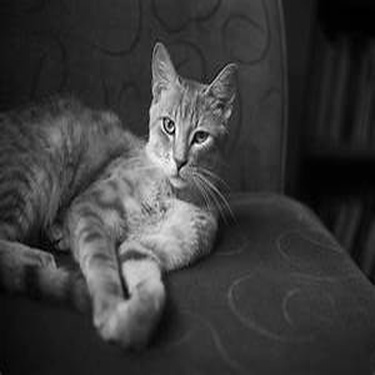cat: (5, 37, 238, 352)
